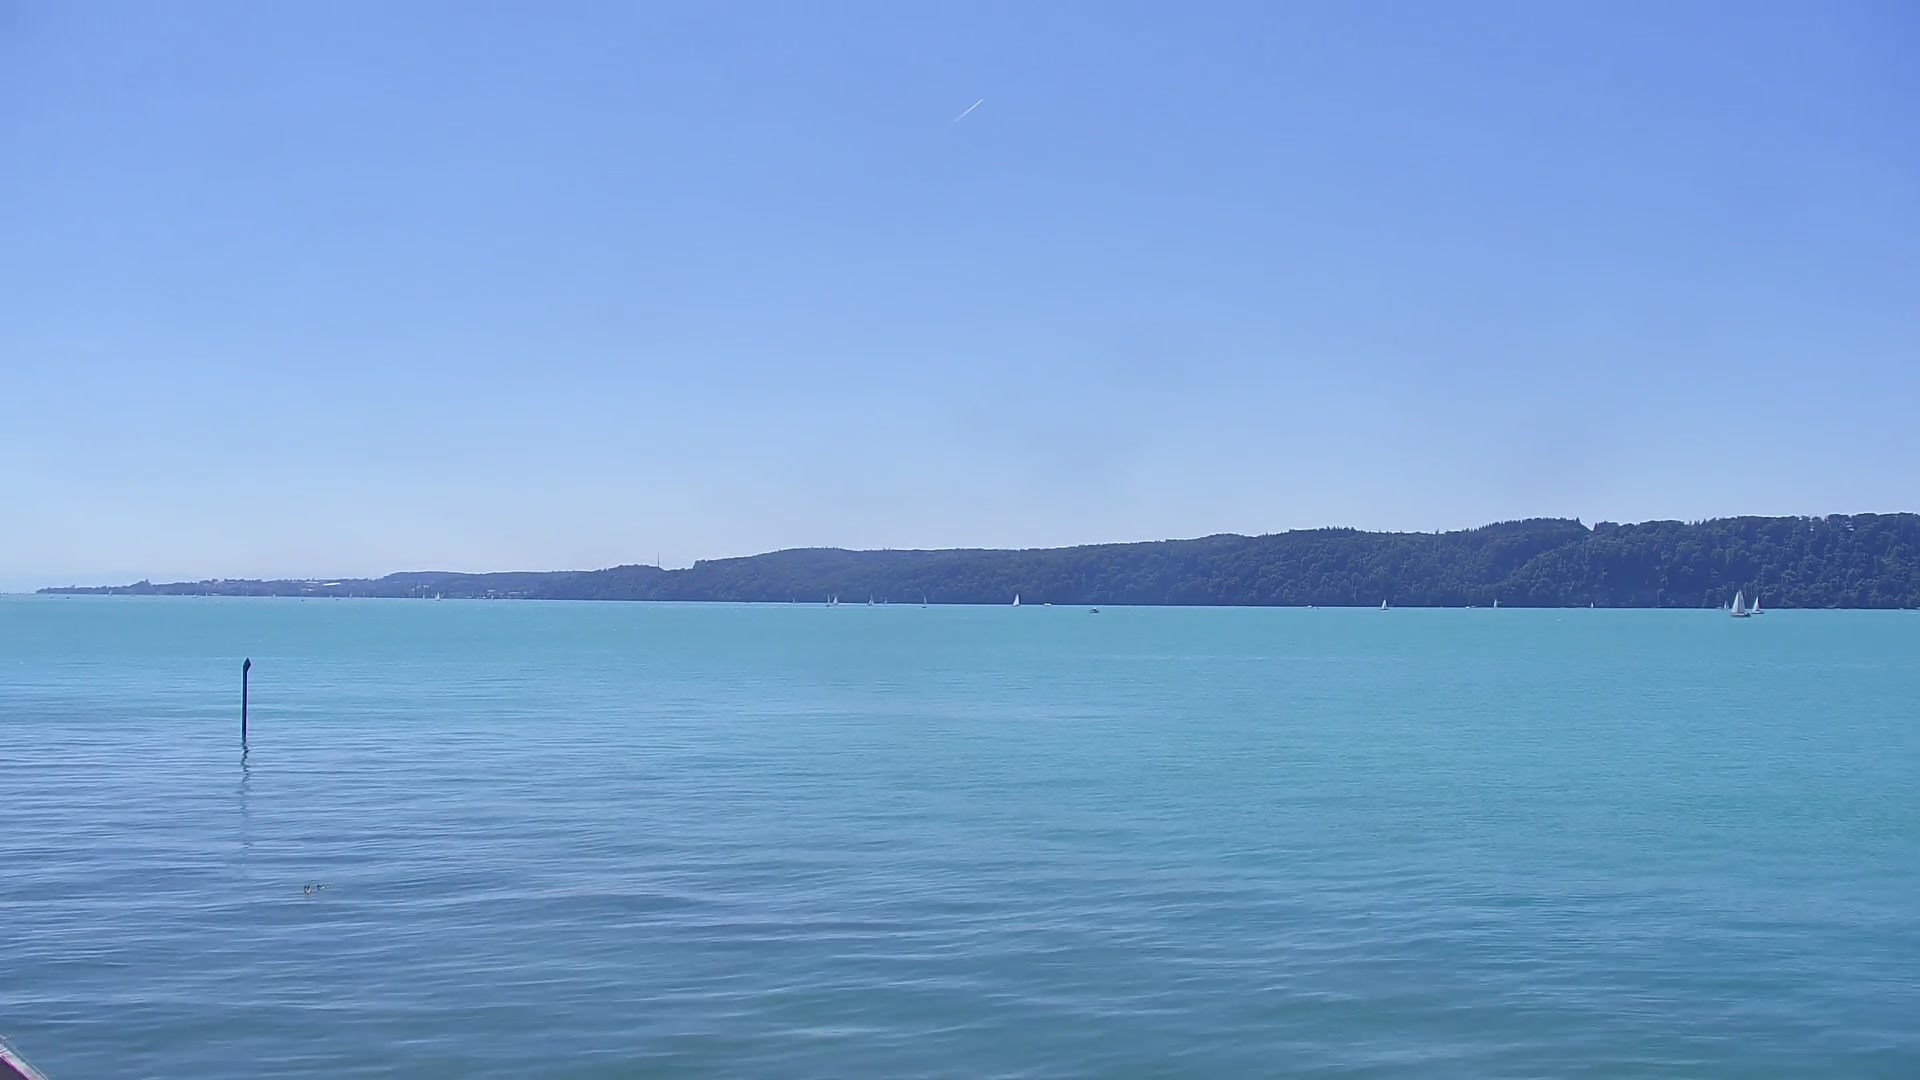sea: (1729, 589, 1751, 618), (1751, 595, 1764, 615), (1378, 599, 1391, 611), (920, 593, 928, 608), (1011, 593, 1019, 608), (868, 593, 874, 607), (832, 595, 840, 605), (1722, 599, 1729, 611), (434, 592, 440, 603), (825, 593, 831, 607), (1089, 607, 1100, 613), (1493, 597, 1499, 608), (1044, 603, 1052, 607), (1590, 603, 1594, 609)
